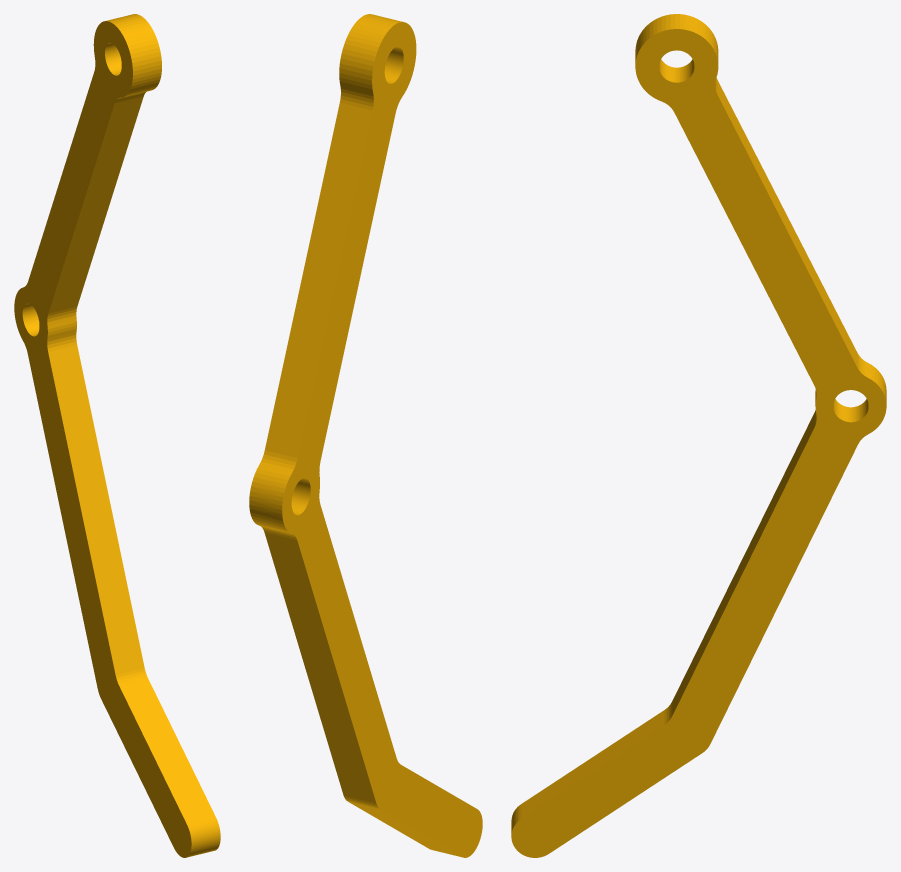
The model's file is Trigger.dae.
3 views of the same model, side by side, from view 1: azimuth 30°, elevation 25°; view 2: azimuth 150°, elevation 25°; view 3: azimuth 270°, elevation 25° (orthographic). The views are drawn at different scales.
Parts seen in each view (by area): view 1: 5c56963661567d164a537ed5; view 2: 5c56963661567d164a537ed5; view 3: 5c56963661567d164a537ed5.
Boxes of the visible parts, bbox=[...] form: 5c56963661567d164a537ed5: bbox=[14, 14, 220, 857]; 5c56963661567d164a537ed5: bbox=[249, 14, 482, 857]; 5c56963661567d164a537ed5: bbox=[511, 14, 886, 857].
Bounding box in the file's own units: 0.00476 × 0.0503 × 0.1225.
